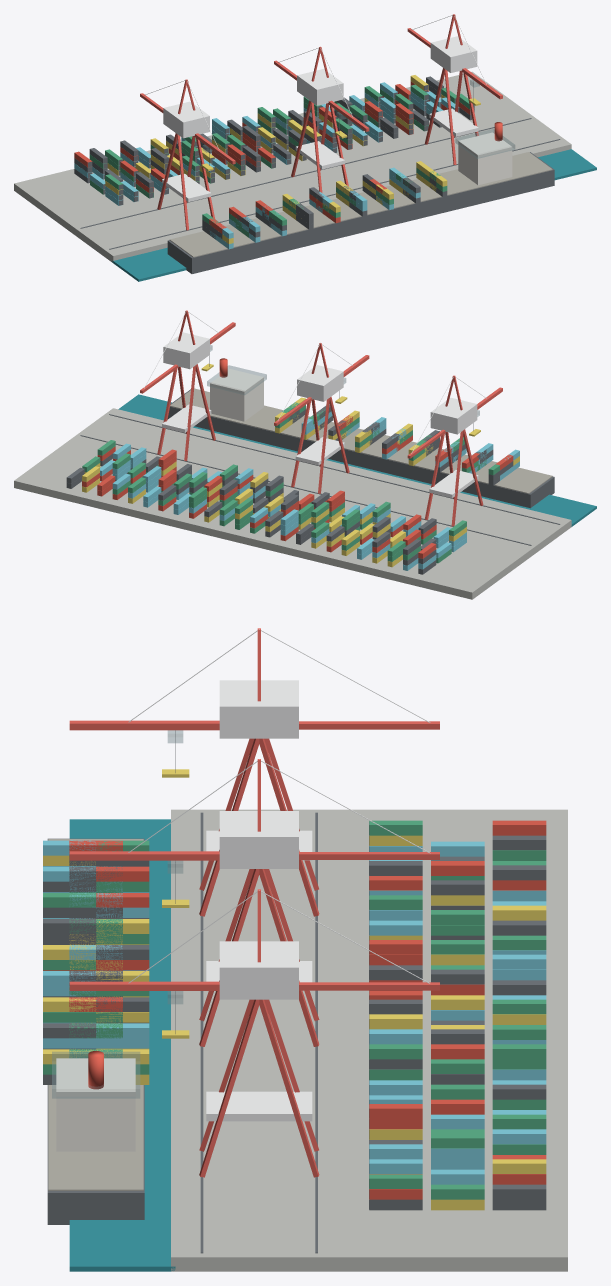
Rendered from harbour-cranes.glb.
3 views of the same model, one above another, from view 1: azimuth 30°, elevation 25°; view 2: azimuth 150°, elevation 25°; view 3: azimuth 270°, elevation 25° (orthographic). The views are drawn at different scales.
Parts seen in each view (by area): view 1: 01 Concrete deepwater container quay and rails / Concrete, 04 Moored ocean container freighter / Dark Anodized, 03 Colorful intermodal container stacks / Dark Anodized, 02 Ship-to-Shore (STS) container gantry cranes / Crane White, 02 Ship-to-Shore (STS) container gantry cranes / Crane Red, 04 Moored ocean container freighter / Paving, 03 Colorful intermodal container stacks / Maersk Cyan, 03 Colorful intermodal container stacks / Evergreen Green, 03 Colorful intermodal container stacks / Beacon Red, 01 Concrete deepwater container quay and rails / Marina Wate, 03 Colorful intermodal container stacks / MSC Yellow, 04 Moored ocean container freighter / White plaster (+7 smaller); view 2: 01 Concrete deepwater container quay and rails / Concrete, 02 Ship-to-Shore (STS) container gantry cranes / Crane White, 04 Moored ocean container freighter / Dark Anodized, 02 Ship-to-Shore (STS) container gantry cranes / Crane Red, 03 Colorful intermodal container stacks / Maersk Cyan, 03 Colorful intermodal container stacks / Evergreen Green, 03 Colorful intermodal container stacks / Dark Anodized, 04 Moored ocean container freighter / Paving, 03 Colorful intermodal container stacks / Beacon Red, 03 Colorful intermodal container stacks / MSC Yellow, 01 Concrete deepwater container quay and rails / Marina Wate, 04 Moored ocean container freighter / White plaster (+6 smaller); view 3: 01 Concrete deepwater container quay and rails / Concrete, 02 Ship-to-Shore (STS) container gantry cranes / Crane Red, 02 Ship-to-Shore (STS) container gantry cranes / Crane White, 03 Colorful intermodal container stacks / Evergreen Green, 01 Concrete deepwater container quay and rails / Marina Wate, 03 Colorful intermodal container stacks / Maersk Cyan, 03 Colorful intermodal container stacks / Dark Anodized, 04 Moored ocean container freighter / Dark Anodized, 03 Colorful intermodal container stacks / Beacon Red, 03 Colorful intermodal container stacks / MSC Yellow, 04 Moored ocean container freighter / White plaster, 04 Moored ocean container freighter / Evergreen Green (+7 smaller).
Boxes of the visible parts, bbox=[...] form: 01 Concrete deepwater container quay and rails / Concrete: bbox=[14, 71, 571, 261]; 04 Moored ocean container freighter / Dark Anodized: bbox=[167, 152, 554, 273]; 03 Colorful intermodal container stacks / Dark Anodized: bbox=[74, 76, 474, 205]; 02 Ship-to-Shore (STS) container gantry cranes / Crane White: bbox=[162, 36, 478, 201]; 02 Ship-to-Shore (STS) container gantry cranes / Crane Red: bbox=[140, 14, 502, 230]; 04 Moored ocean container freighter / Paving: bbox=[169, 152, 552, 257]; 03 Colorful intermodal container stacks / Maersk Cyan: bbox=[74, 82, 458, 205]; 03 Colorful intermodal container stacks / Evergreen Green: bbox=[89, 84, 470, 198]; 03 Colorful intermodal container stacks / Beacon Red: bbox=[74, 81, 474, 193]; 01 Concrete deepwater container quay and rails / Marina Wate: bbox=[112, 149, 596, 281]; 03 Colorful intermodal container stacks / MSC Yellow: bbox=[105, 75, 455, 195]; 04 Moored ocean container freighter / White plaster: bbox=[458, 132, 512, 185]; 01 Concrete deepwater container quay and rails / Concrete: bbox=[14, 408, 571, 599]; 02 Ship-to-Shore (STS) container gantry cranes / Crane White: bbox=[162, 332, 478, 498]; 04 Moored ocean container freighter / Dark Anodized: bbox=[167, 389, 554, 508]; 02 Ship-to-Shore (STS) container gantry cranes / Crane Red: bbox=[140, 310, 502, 526]; 03 Colorful intermodal container stacks / Maersk Cyan: bbox=[100, 443, 466, 570]; 03 Colorful intermodal container stacks / Evergreen Green: bbox=[82, 440, 466, 563]; 03 Colorful intermodal container stacks / Dark Anodized: bbox=[66, 453, 436, 574]; 04 Moored ocean container freighter / Paving: bbox=[170, 388, 552, 493]; 03 Colorful intermodal container stacks / Beacon Red: bbox=[82, 446, 436, 558]; 03 Colorful intermodal container stacks / MSC Yellow: bbox=[82, 461, 466, 567]; 01 Concrete deepwater container quay and rails / Marina Wate: bbox=[118, 394, 596, 526]; 04 Moored ocean container freighter / White plaster: bbox=[210, 369, 263, 421]; 01 Concrete deepwater container quay and rails / Concrete: bbox=[171, 809, 567, 1271]; 02 Ship-to-Shore (STS) container gantry cranes / Crane Red: bbox=[69, 628, 439, 1177]; 02 Ship-to-Shore (STS) container gantry cranes / Crane White: bbox=[206, 680, 312, 1121]; 03 Colorful intermodal container stacks / Evergreen Green: bbox=[369, 820, 546, 1199]; 01 Concrete deepwater container quay and rails / Marina Wate: bbox=[69, 819, 175, 1271]; 03 Colorful intermodal container stacks / Maersk Cyan: bbox=[369, 841, 546, 1184]; 03 Colorful intermodal container stacks / Dark Anodized: bbox=[369, 821, 546, 1210]; 04 Moored ocean container freighter / Dark Anodized: bbox=[43, 838, 149, 1224]; 03 Colorful intermodal container stacks / Beacon Red: bbox=[369, 820, 546, 1199]; 03 Colorful intermodal container stacks / MSC Yellow: bbox=[369, 835, 546, 1210]; 04 Moored ocean container freighter / White plaster: bbox=[56, 1058, 135, 1151]; 04 Moored ocean container freighter / Evergreen Green: bbox=[43, 840, 149, 1074].
Bounding box in the file's own units: 240 × 72.1 × 119.
